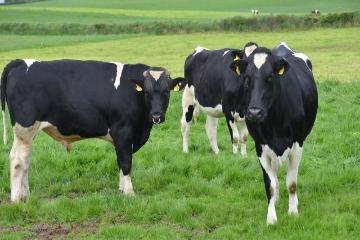cow: (2, 49, 171, 184), (245, 50, 313, 208), (178, 38, 251, 141)
